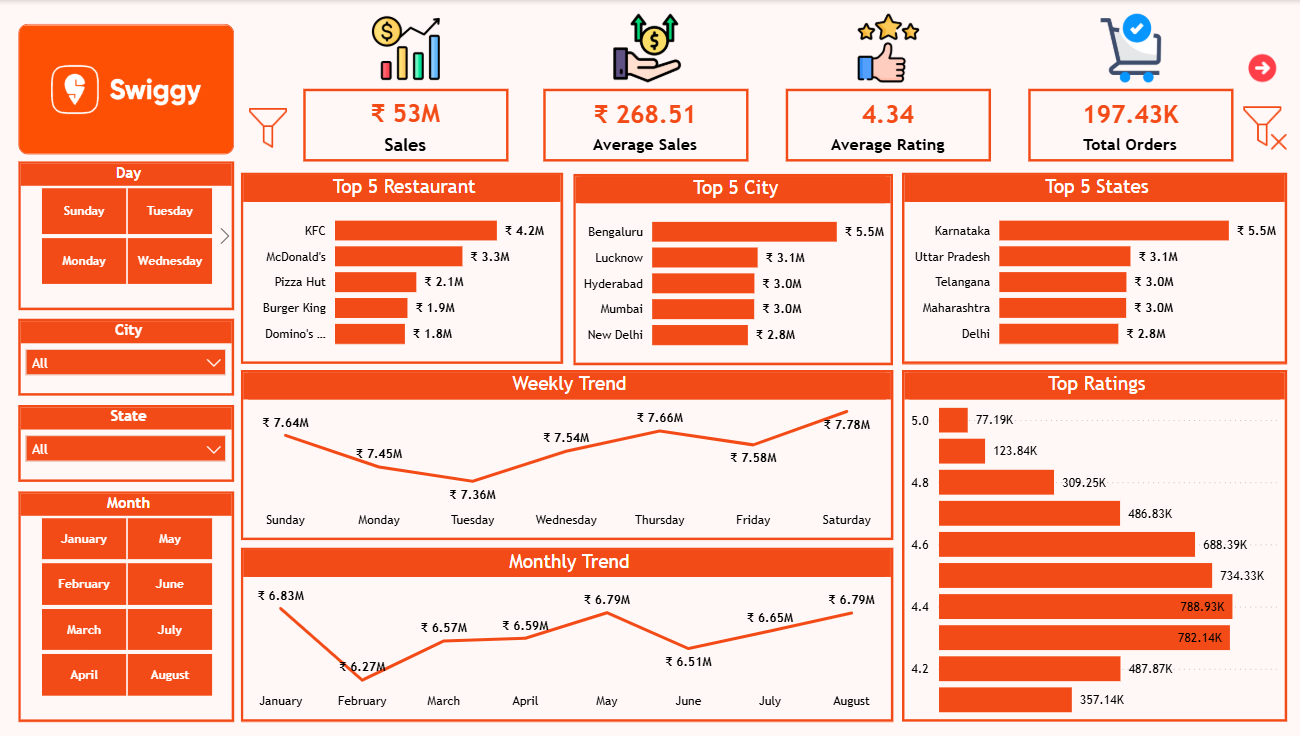

This screenshot's page, from the dashboard's own definition file:
{"tool":"powerbi","page":{"name":"Home","canvas":[1280,720],"ordinal":0},"visuals":[{"type":"lineChart","title":"Monthly Trend","fields":{"Category":["Calander Table.Date.Variation.Date Hierarchy.Month"],"Y":["Sum(Swiggy Data.Sales)"]},"box":[243.4,536.2,638.3,170.2],"z":0},{"type":"card","fields":{"Values":["Avg(Swiggy Data.Rating)"]},"box":[776.2,86.8,200.9,71.5],"z":1000},{"type":"card","fields":{"Values":["Sum(Swiggy Data.Sales)"]},"box":[304.7,86.8,200.9,71.5],"z":2000},{"type":"card","fields":{"Values":["Avg(Swiggy Data.Sales)"]},"box":[539.6,86.8,200.9,71.5],"z":3000},{"type":"card","fields":{"Values":["CountNonNull(Swiggy Data.Category)"]},"box":[1013.5,86.8,200.9,71.5],"z":4000},{"type":"barChart","title":"Top 5 Restaurant","fields":{"Category":["Swiggy Data.Restaurant Name"],"Y":["Sum(Swiggy Data.Sales)"]},"box":[243.4,168.5,314.9,187.2],"z":5000},{"type":"slicer","title":"State","fields":{"Values":["Swiggy Data.State"]},"box":[25.7,396.3,211,75.5],"z":6000},{"type":"slicer","title":"Month","fields":{"Values":["Calander Table.MonthName"]},"box":[25.7,480.4,211,225.2],"z":7000},{"type":"image","box":[25.7,22.8,211,128.3],"z":8000},{"type":"slicer","title":"City","fields":{"Values":["Swiggy Data.City"]},"box":[25.7,312.2,211,75.5],"z":9000},{"type":"image","box":[305,13.2,201,67],"z":10000},{"type":"image","box":[540.1,13.2,201,67],"z":11000},{"type":"image","box":[776.8,13.2,201,67],"z":12000},{"type":"image","box":[1013.6,13.2,201,67],"z":13000},{"type":"slicer","title":"Day","fields":{"Values":["Calander Table.Day Name"]},"box":[25.7,158.2,211,145.4],"z":14000},{"type":"barChart","title":"Top 5 City","fields":{"Category":["Swiggy Data.City"],"Y":["Sum(Swiggy Data.Sales)"]},"box":[568.6,170,313,187.1],"z":15000},{"type":"barChart","title":"Top Ratings","fields":{"Category":["Swiggy Data.Rating"],"Y":["Sum(Swiggy Data.Rating Count)"]},"box":[890.2,362,376.6,343.6],"z":16000},{"type":"barChart","title":"Top 5 States","fields":{"Category":["Swiggy Data.State"],"Y":["Sum(Swiggy Data.Sales)"]},"box":[890.2,168.8,376.6,187.1],"z":17000},{"type":"image","box":[236.6,104.1,68.4,42.8],"z":18000},{"type":"image","box":[1224.4,104.1,42.8,42.8],"z":19000},{"type":"lineChart","title":"Weekly Trend","fields":{"Y":["Sum(Swiggy Data.Sales)"],"Category":["Calander Table.Day Name"]},"box":[243.3,362,638.3,166.3],"z":20000},{"type":"image","box":[245,37.5,51.2,35],"z":20001},{"type":"image","box":[1216.2,43.8,51.2,28.8],"z":20002}]}

Visuals, with their boxes in screenshot pixels (x1, y1, x2, y2), scaled from the page's 1280x720 canvas onto the 1300x736 screenshot:
"Monthly Trend" lineChart: region(247, 548, 895, 722)
card - Avg(Swiggy Data.Rating): region(788, 89, 992, 162)
card - Sum(Swiggy Data.Sales): region(309, 89, 514, 162)
card - Avg(Swiggy Data.Sales): region(548, 89, 752, 162)
card - CountNonNull(Swiggy Data.Category): region(1029, 89, 1233, 162)
"Top 5 Restaurant" barChart: region(247, 172, 567, 364)
"State" slicer: region(26, 405, 240, 482)
"Month" slicer: region(26, 491, 240, 721)
image: region(26, 23, 240, 154)
"City" slicer: region(26, 319, 240, 396)
image: region(310, 13, 514, 82)
image: region(549, 13, 753, 82)
image: region(789, 13, 993, 82)
image: region(1029, 13, 1234, 82)
"Day" slicer: region(26, 162, 240, 310)
"Top 5 City" barChart: region(577, 174, 895, 365)
"Top Ratings" barChart: region(904, 370, 1287, 721)
"Top 5 States" barChart: region(904, 173, 1287, 364)
image: region(240, 106, 310, 150)
image: region(1244, 106, 1287, 150)
"Weekly Trend" lineChart: region(247, 370, 895, 540)
image: region(249, 38, 301, 74)
image: region(1235, 45, 1287, 74)
